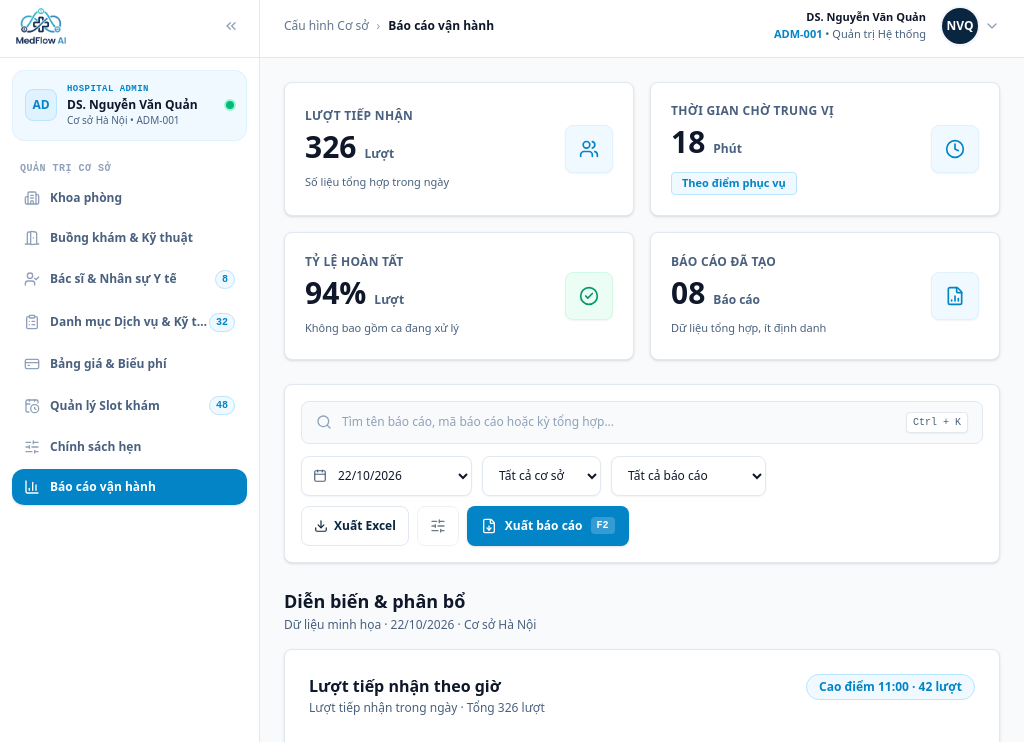
Test: OperationalReportsPage (SCR-ADM-RPT-01) › filters reports by search query and resets filters
Step 1. Type "RPT-106" into the field labelled "Tìm tên báo cáo, mã báo cáo hoặc kỳ tổng hợp" → [619, 422], box [342, 414, 896, 430]
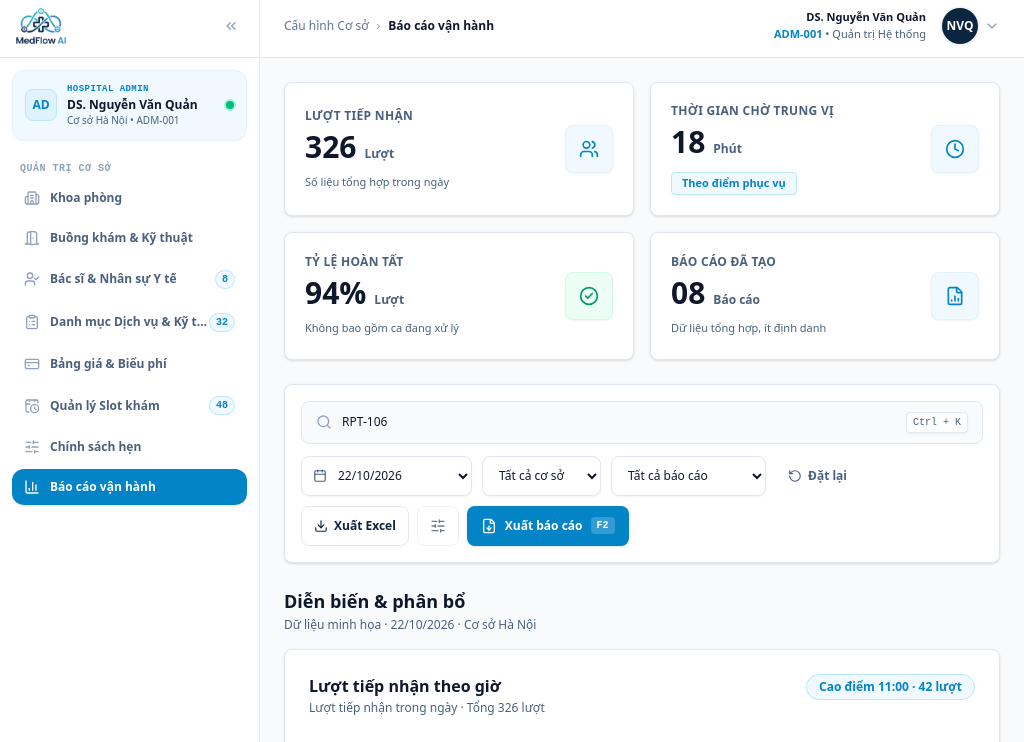
expect the text "Tiếp nhận ngoại trú" is not shown: met
Step 2. Click the button "Đặt lại" → [818, 476], box [776, 456, 859, 496]
(page scrolled)
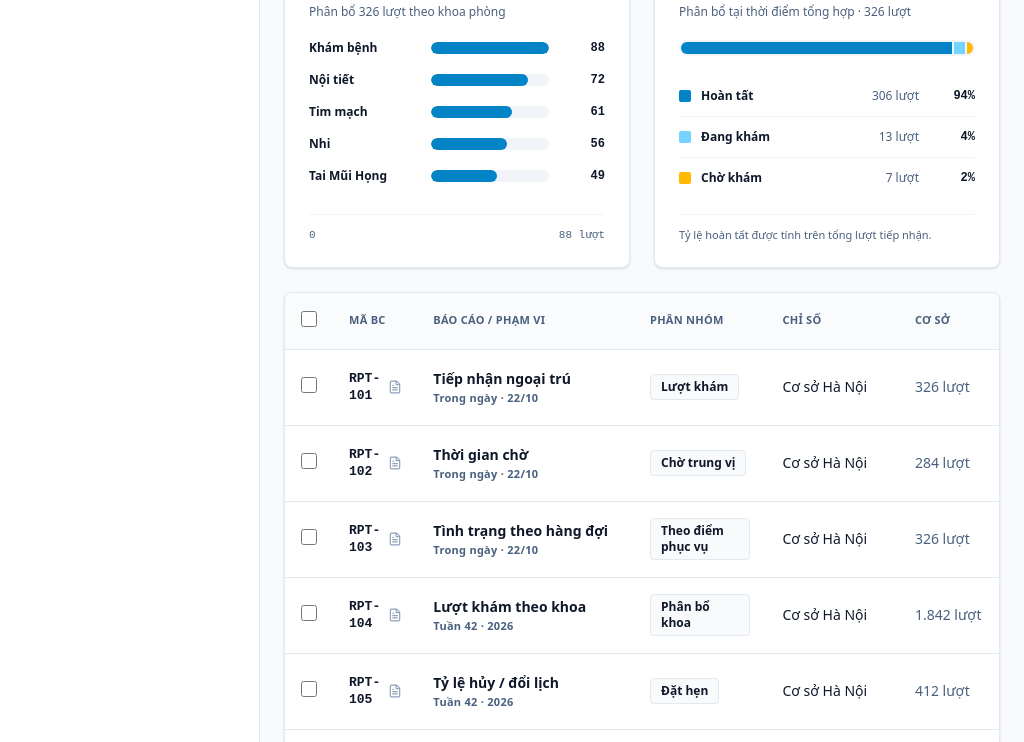
expect the text "Tiếp nhận ngoại trú" is shown: met, box [433, 369, 571, 388]
